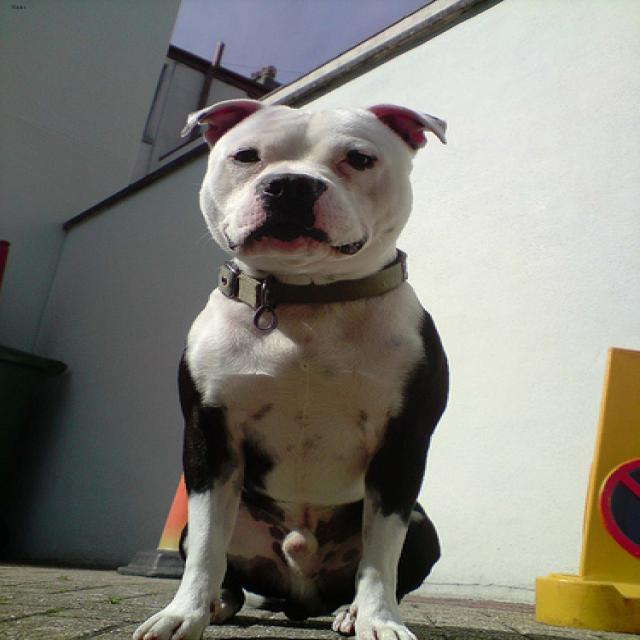dog-staffordshire_bull_terrier: (119, 88, 459, 637)
